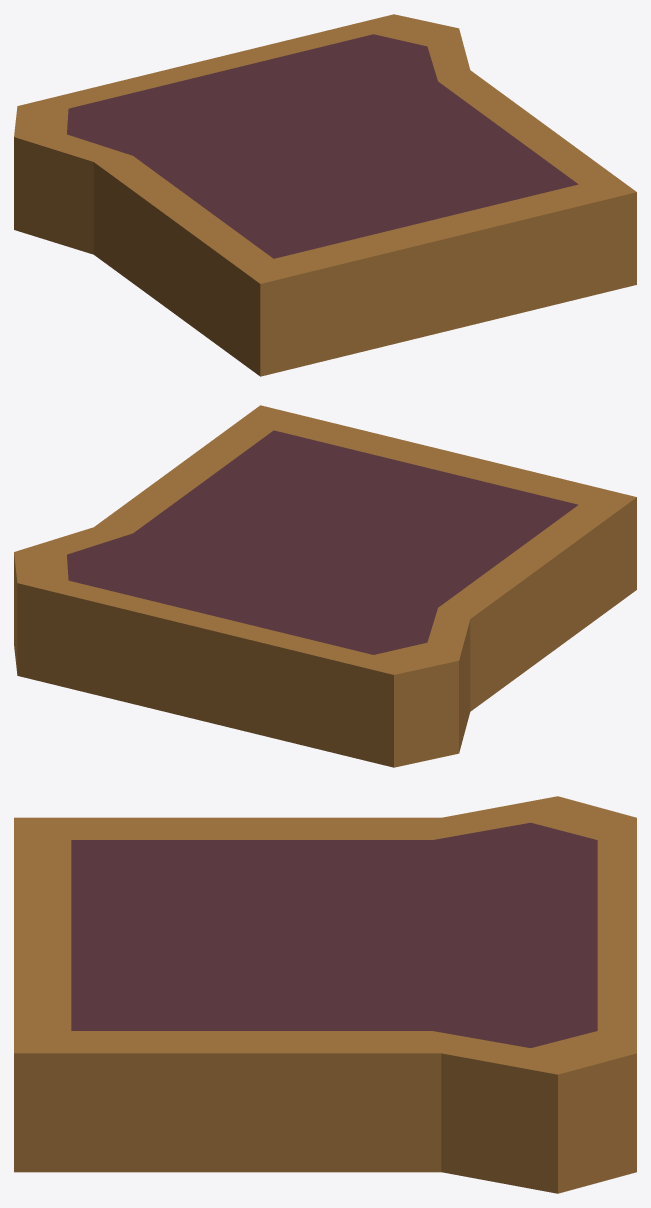
Rendered from food-toast-marmelade.glb.
The picture shows the model from 3 angles, top to bottom: view 1: azimuth 30°, elevation 25°; view 2: azimuth 150°, elevation 25°; view 3: azimuth 270°, elevation 25°; orthographic projection. The views are drawn at different scales.
Visible parts, largest first — view 1: toast-marmelade; view 2: toast-marmelade; view 3: toast-marmelade.
Part boxes in pixels (x1,y1,x2,y2): toast-marmelade: (14,14,636,376); toast-marmelade: (14,405,636,767); toast-marmelade: (14,796,636,1193).
Size of the model in its own units: 0.1326 by 0.0265 by 0.1254.
